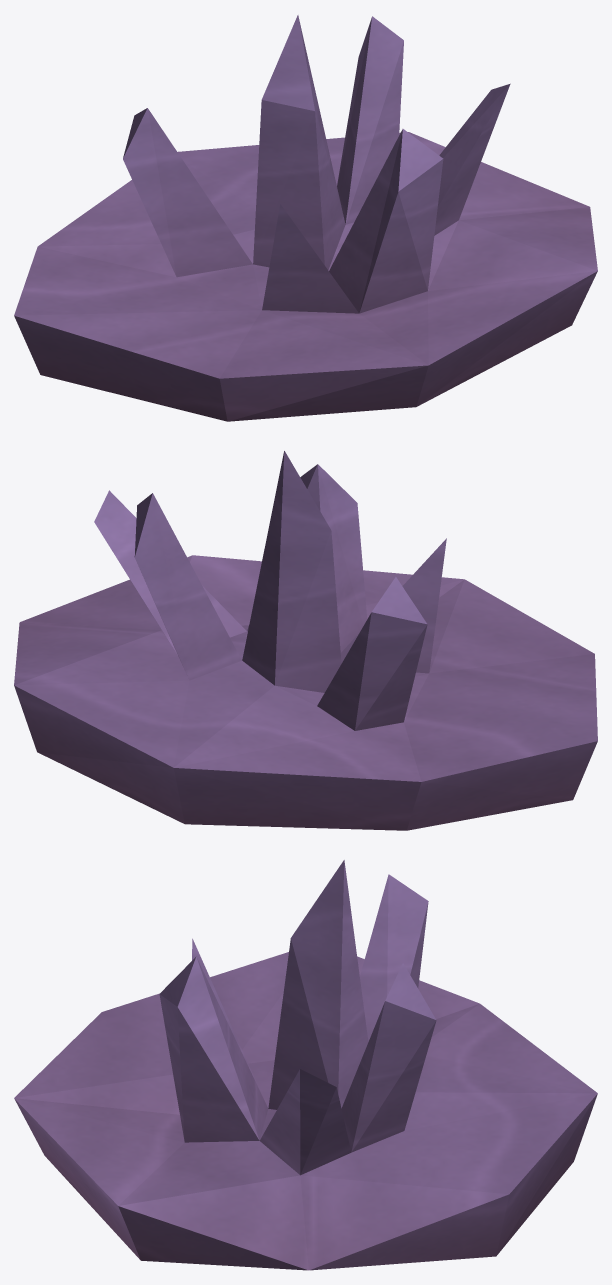
Rendered from crystal_amethyst_druse_LOD1.glb.
3 renders of one model, top to bottom at view 1: azimuth 30°, elevation 25°; view 2: azimuth 150°, elevation 25°; view 3: azimuth 270°, elevation 25°, orthographic. The views are drawn at different scales.
Parts seen in each view (by area): view 1: crystal_amethyst_druse_LOD1; view 2: crystal_amethyst_druse_LOD1; view 3: crystal_amethyst_druse_LOD1.
Part boxes in pixels (box(x1,y1,x2,y2)): crystal_amethyst_druse_LOD1: box(14, 15, 597, 421); crystal_amethyst_druse_LOD1: box(14, 451, 597, 830); crystal_amethyst_druse_LOD1: box(14, 860, 597, 1270).
Size of the model in its own units: 1.36 by 0.65 by 1.12.
Materials: 1 (1 with a texture image).
